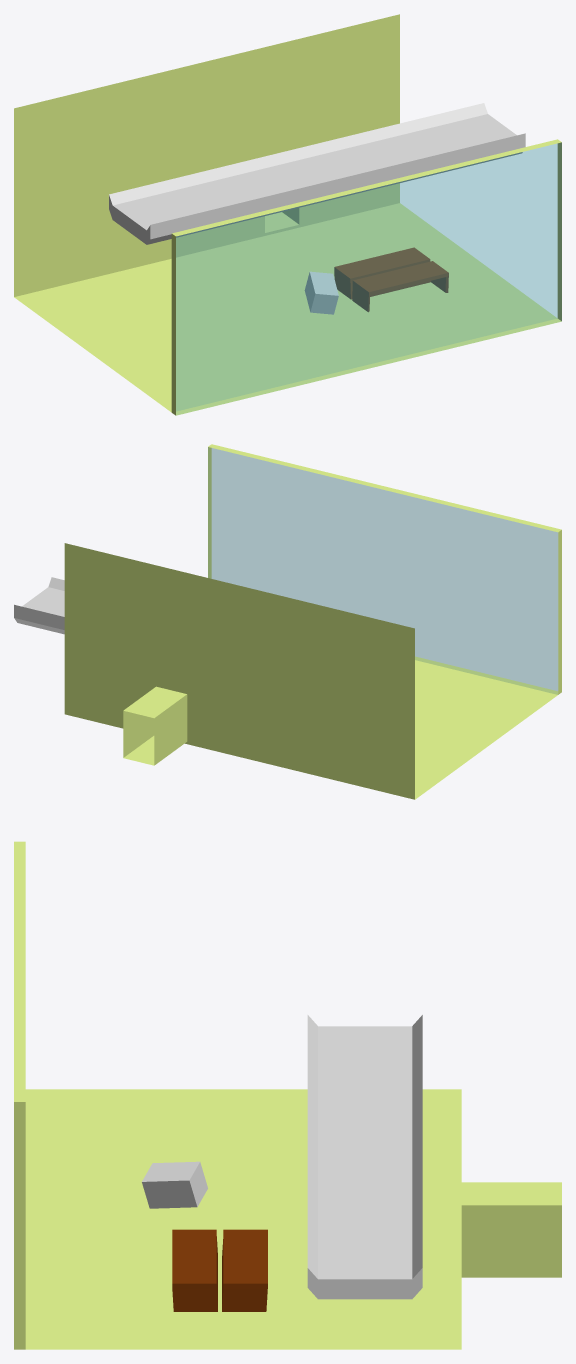
The picture shows the model from 3 angles, top to bottom: view 1: azimuth 30°, elevation 25°; view 2: azimuth 150°, elevation 25°; view 3: azimuth 270°, elevation 25°; orthographic projection. The views are drawn at different scales.
Visible parts, largest first — view 1: Plane.001, Desk, Desk.002, Desk.001, Cube; view 2: Plane.001, Desk; view 3: Plane.001, Desk, Desk.001, Desk.002, Cube.
Boxes of the visible parts, x1,y1,x2,y2 form: Plane.001: (14, 14, 561, 415); Desk: (109, 103, 525, 244); Desk.002: (352, 261, 448, 311); Desk.001: (334, 247, 430, 299); Cube: (304, 271, 338, 314); Plane.001: (64, 444, 561, 799); Desk: (14, 577, 64, 634); Plane.001: (14, 841, 561, 1349); Desk: (307, 1015, 422, 1299); Desk.001: (222, 1229, 267, 1311); Desk.002: (172, 1229, 217, 1311); Cube: (142, 1161, 207, 1208).
Bounding box in the file's own units: 1950 × 779 × 1468.
